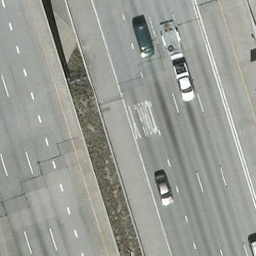car: (171, 52, 196, 101), (133, 16, 155, 57), (154, 170, 173, 204)
